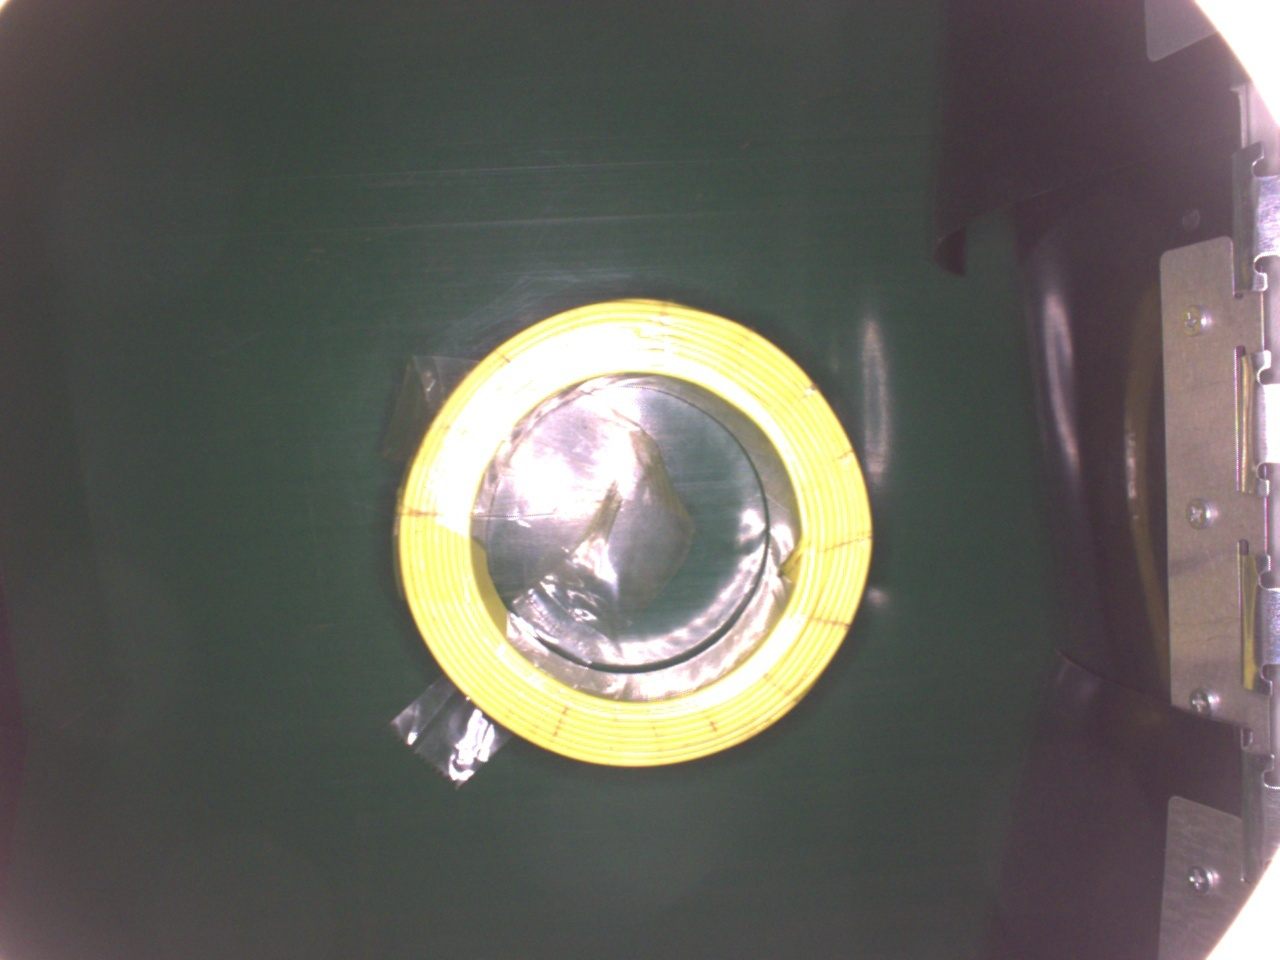yellow: (394, 289, 878, 782)
